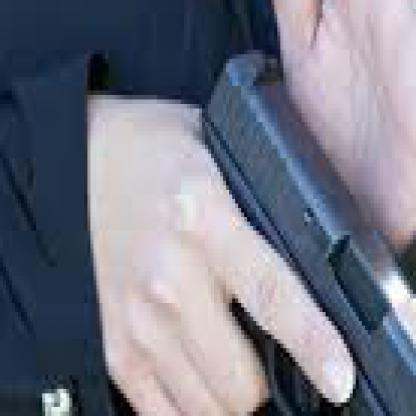gun: (172, 36, 413, 412)
